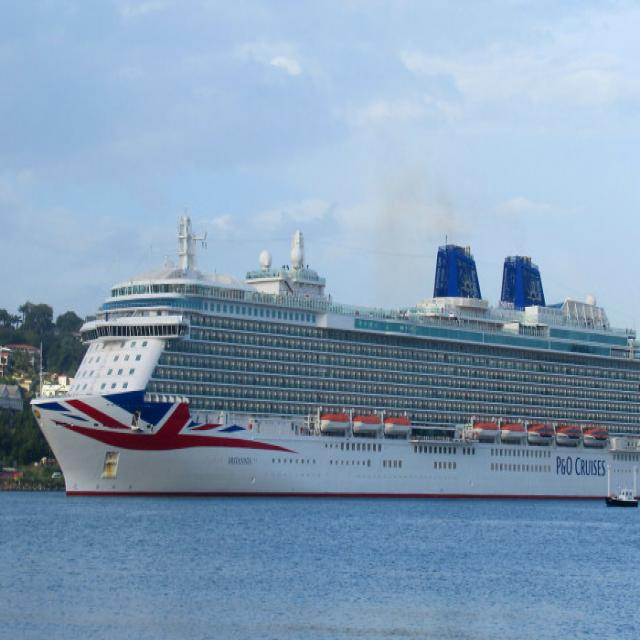cruises: (24, 211, 640, 512)
